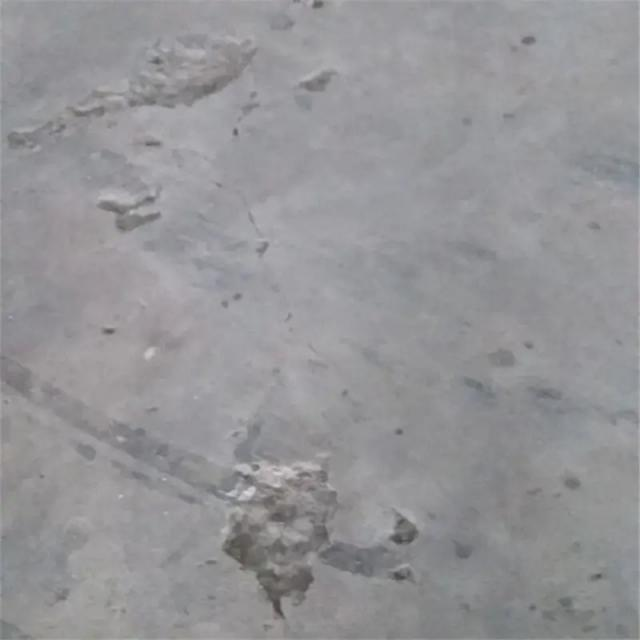Pothole: (6, 24, 270, 154), (212, 440, 350, 610), (84, 190, 194, 233)
